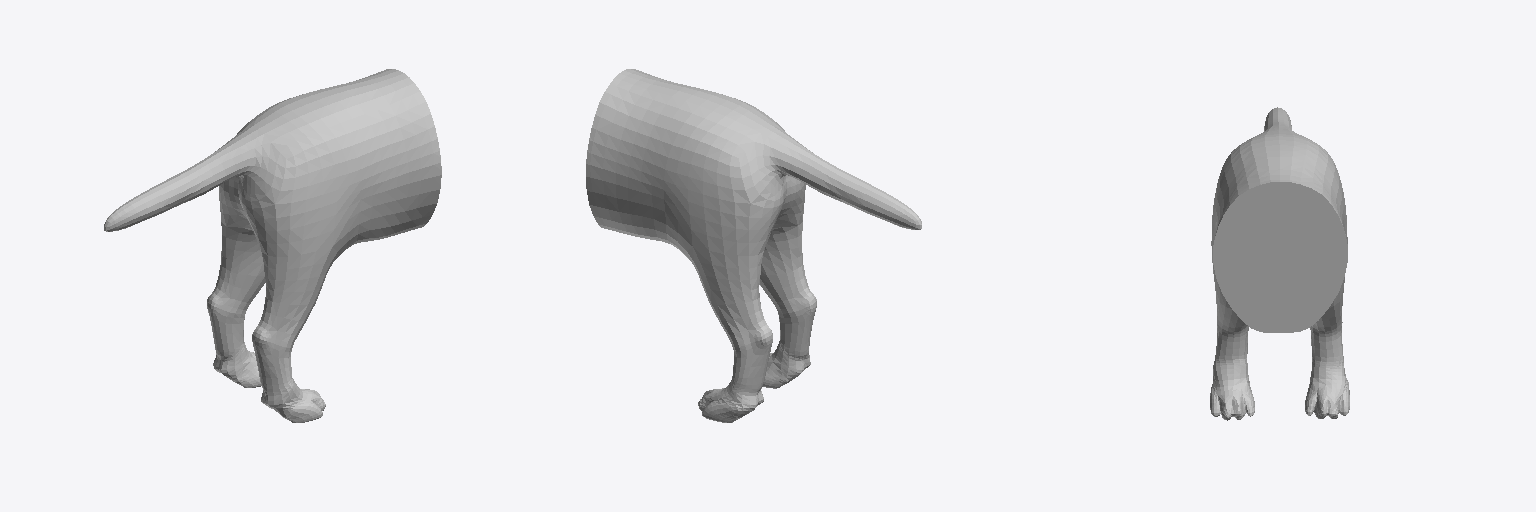
Rendered from Hund_Hinten.obj.
3 renders of one model, left to right at view 1: azimuth 30°, elevation 25°; view 2: azimuth 150°, elevation 25°; view 3: azimuth 270°, elevation 25°, orthographic.
Parts seen in each view (by area): view 1: Dog_body; view 2: Dog_body; view 3: Dog_body.
Boxes of the visible parts, x1,y1,x2,y2 form: Dog_body: [104, 69, 441, 422]; Dog_body: [586, 69, 921, 422]; Dog_body: [1210, 107, 1349, 420].
Bounding box in the file's own units: 1.69 × 1.55 × 0.671.